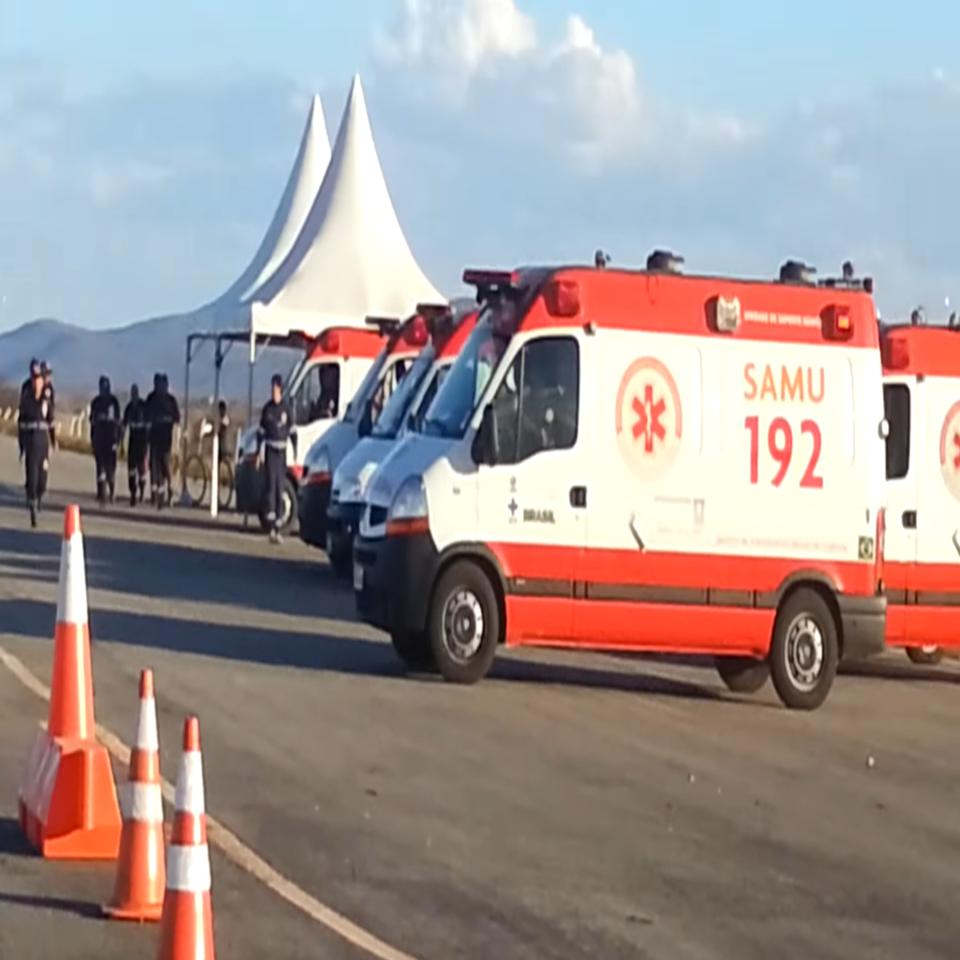bombeiro: (354, 244, 895, 706)
